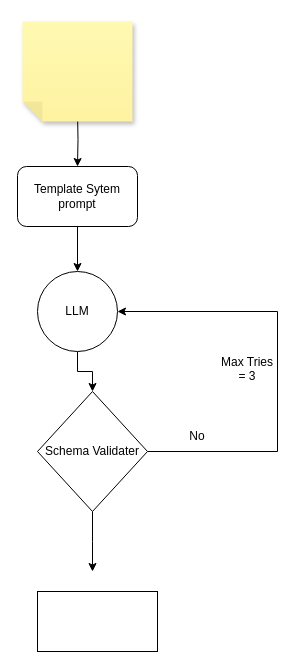
The diagram is 303 pixels wide and 669 high, and some of its shapes have lost their labels. Each missing label, with the centre of its shape:
"Final Synthesis Examples" belongs at (x=97, y=621).
"Policies / Rubric Definition" belongs at (x=78, y=72).
